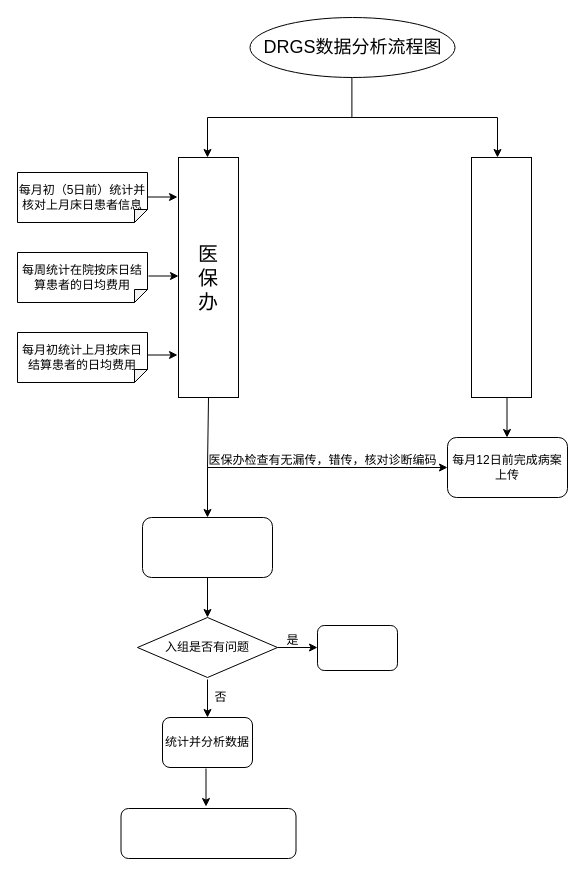
Some shapes in this 585 by 876 pixel diagram are drawn without their labels. The shapes that lost their labels are listed below. From the top down, each one's centre as x and y in pixels, then its label:
At (x=501, y=277): "医 教 病 案 科".
At (x=207, y=547): "数据回流后，医保办及时整理数据，分发给科主任，核查入组情况".
At (x=357, y=647): "向医保局反馈".
At (x=208, y=833): "院级（医教科、临床科室、医保办）讨论分析数据并总结".
